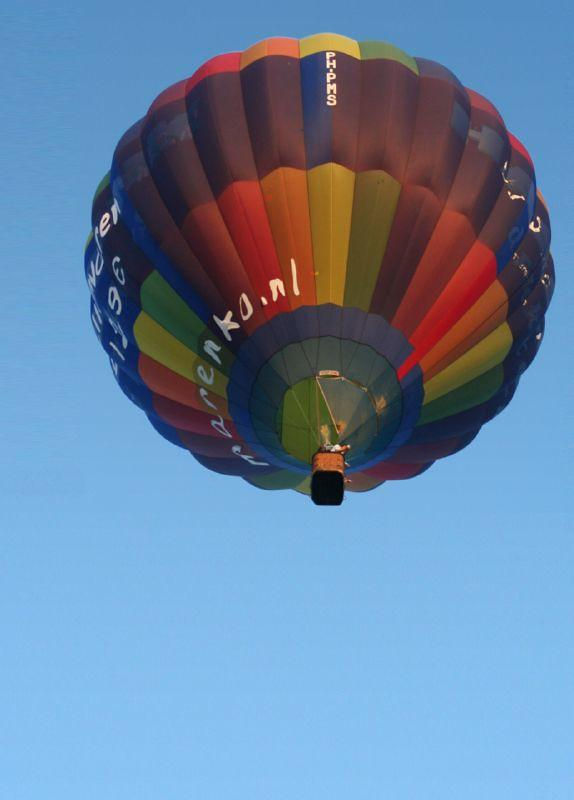balloon: (84, 32, 557, 507)
